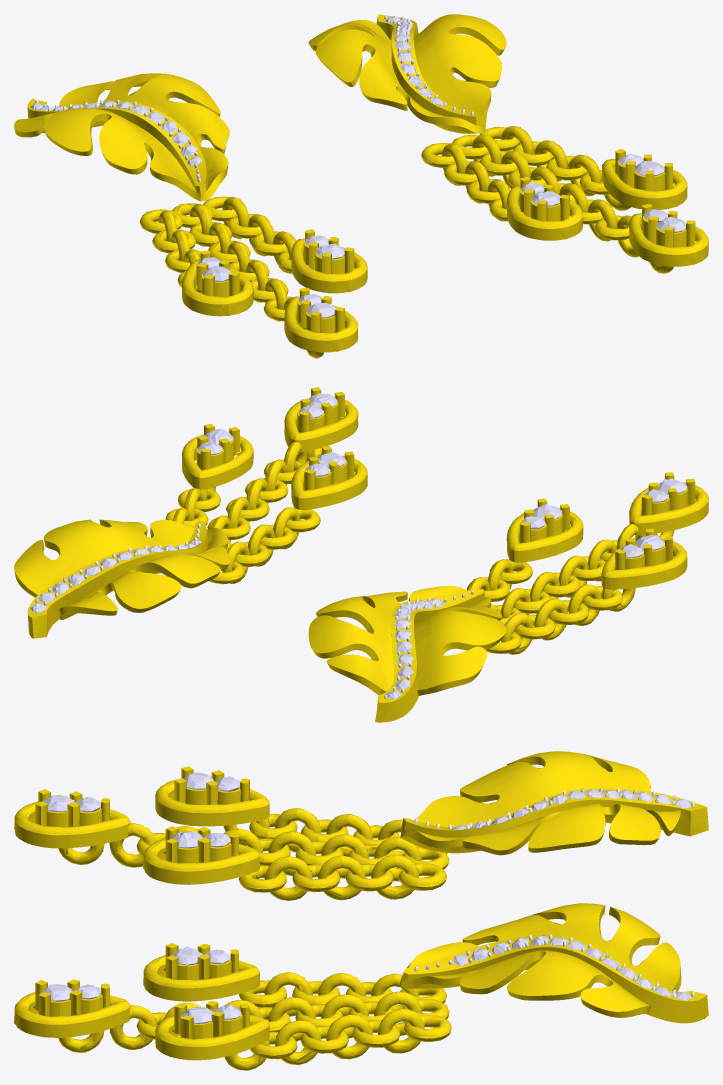
Rendered from DTGN-D000657497.glb.
3 renders of one model, top to bottom at view 1: azimuth 30°, elevation 25°; view 2: azimuth 150°, elevation 25°; view 3: azimuth 270°, elevation 25°, orthographic. The views are drawn at different scales.
Parts seen in each view (by area): view 1: highPolyMesh, lowPolyMesh; view 2: highPolyMesh, lowPolyMesh; view 3: highPolyMesh, lowPolyMesh.
Boxes of the visible parts, x1,y1,x2,y2 form: highPolyMesh: (14, 14, 708, 358); lowPolyMesh: (14, 14, 708, 356); highPolyMesh: (14, 388, 708, 722); lowPolyMesh: (14, 387, 708, 722); highPolyMesh: (14, 751, 708, 1070); lowPolyMesh: (14, 751, 708, 1070).
Bounding box in the file's own units: 0.0349 × 0.00618 × 0.0383.
